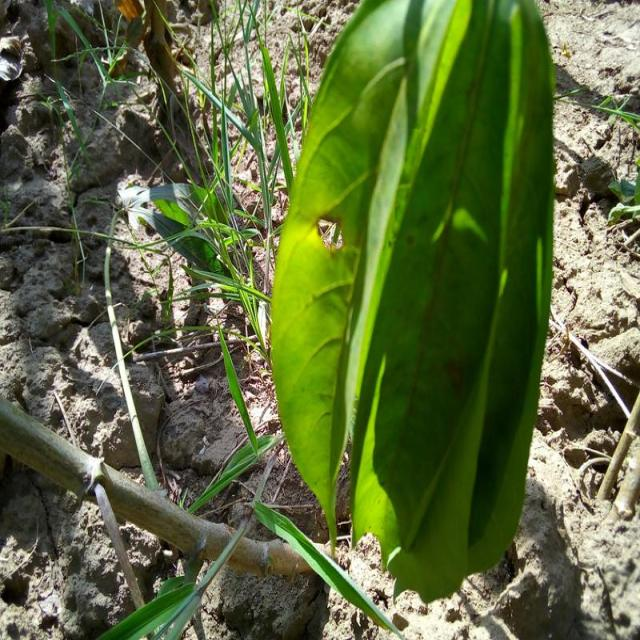cassava leaf: (268, 0, 556, 604)
